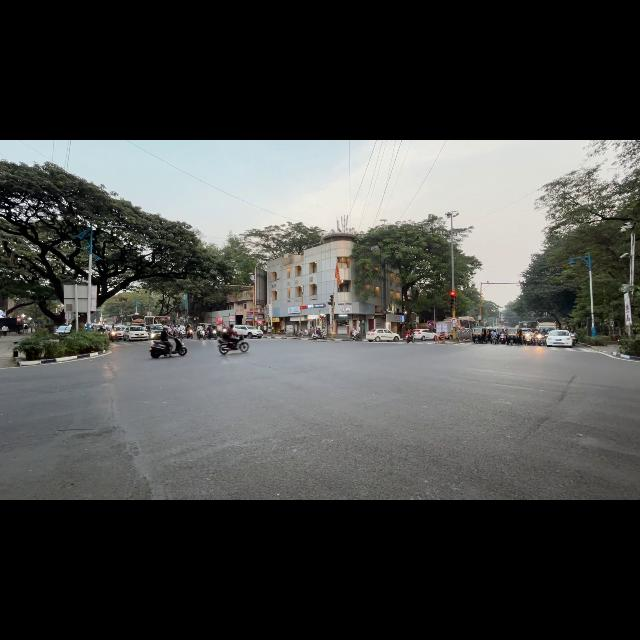bus: (144, 316, 170, 325), (125, 314, 145, 325), (457, 317, 476, 328), (458, 317, 476, 328), (518, 321, 537, 328)
car: (546, 330, 572, 347), (366, 329, 399, 341), (234, 325, 263, 338), (124, 326, 148, 340), (413, 329, 435, 341), (147, 324, 163, 340), (54, 326, 72, 338), (115, 325, 126, 339)
motorcycle: (150, 338, 186, 358), (218, 339, 248, 354), (206, 328, 218, 340), (523, 333, 534, 345), (535, 334, 545, 345), (109, 330, 118, 341), (311, 332, 325, 339), (570, 334, 578, 346), (490, 335, 498, 345), (406, 334, 414, 344), (499, 334, 506, 344), (197, 330, 204, 339), (350, 333, 359, 340), (187, 328, 193, 338), (178, 330, 183, 339), (278, 329, 285, 334)
